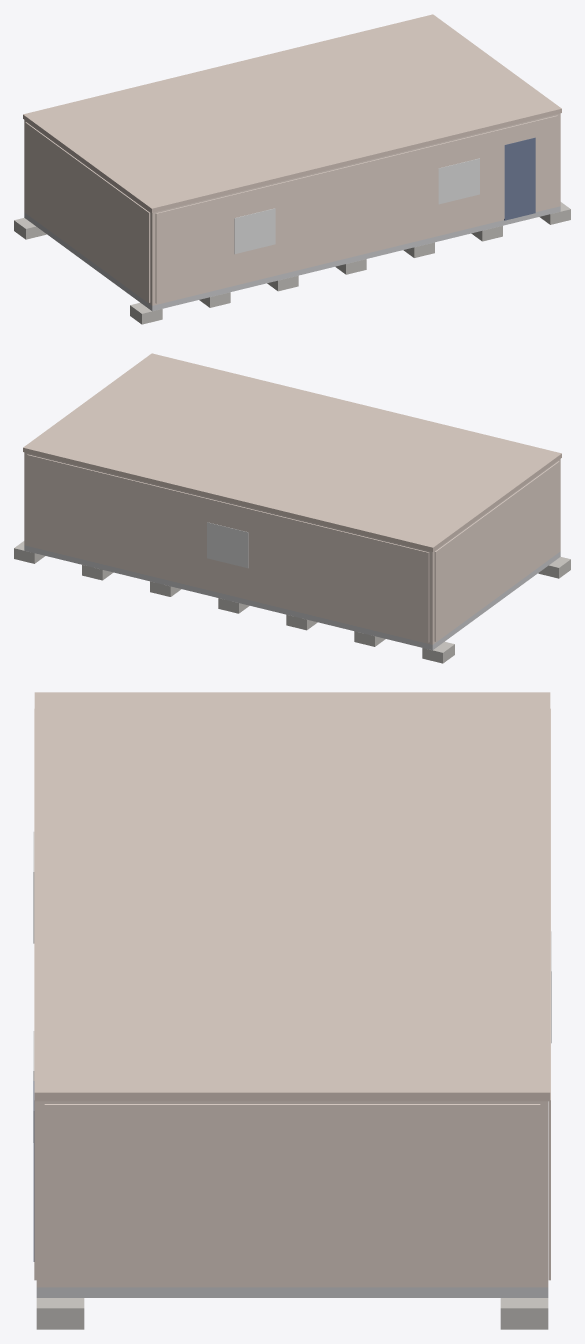
The model's file is Studio-40-Base-Mauve-LOD1.glb.
3 views of the same model, one above another, from view 1: azimuth 30°, elevation 25°; view 2: azimuth 150°, elevation 25°; view 3: azimuth 270°, elevation 25° (orthographic). The views are drawn at different scales.
Visible parts, largest first — view 1: RoofMain, ExteriorPanelsStandard, BaseFrame, WindowsStandard, ExteriorShell, FoundationBlocks, EntryDoor; view 2: RoofMain, ExteriorPanelsStandard, BaseFrame, ExteriorShell, FoundationBlocks, WindowsStandard; view 3: RoofMain, ExteriorPanelsStandard, ExteriorShell, BaseFrame, FoundationBlocks.
Part boxes in pixels (left/top/right/bottom): RoofMain: left=23, top=14, right=561, bottom=212; ExteriorPanelsStandard: left=25, top=115, right=557, bottom=303; BaseFrame: left=24, top=206, right=560, bottom=311; WindowsStandard: left=234, top=158, right=479, bottom=254; ExteriorShell: left=24, top=113, right=560, bottom=305; FoundationBlocks: left=14, top=202, right=570, bottom=324; EntryDoor: left=504, top=137, right=535, bottom=220; RoofMain: left=23, top=353, right=561, bottom=551; ExteriorPanelsStandard: left=27, top=454, right=559, bottom=642; BaseFrame: left=24, top=545, right=560, bottom=650; ExteriorShell: left=24, top=452, right=560, bottom=644; FoundationBlocks: left=14, top=541, right=570, bottom=663; WindowsStandard: left=207, top=522, right=248, bottom=568; RoofMain: left=34, top=692, right=550, bottom=1101; ExteriorPanelsStandard: left=34, top=708, right=550, bottom=1284; ExteriorShell: left=36, top=1101, right=548, bottom=1287; BaseFrame: left=36, top=1287, right=548, bottom=1297; FoundationBlocks: left=36, top=1298, right=548, bottom=1329.
Size of the model in its own units: 12.49 by 3.17 by 6.53.
